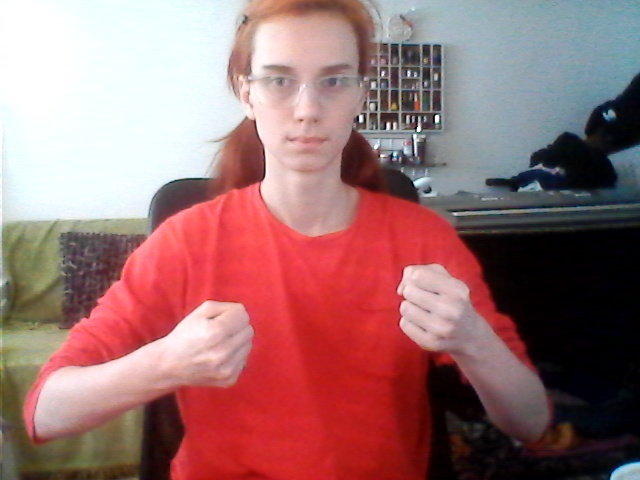auto: (179, 257, 482, 398)
